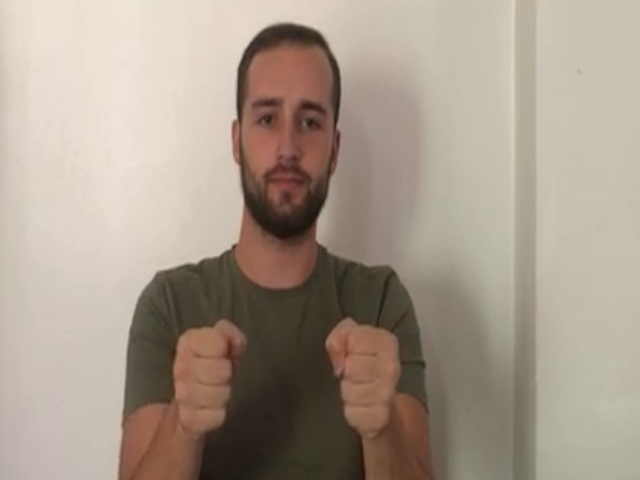Sili: (169, 315, 404, 442)
